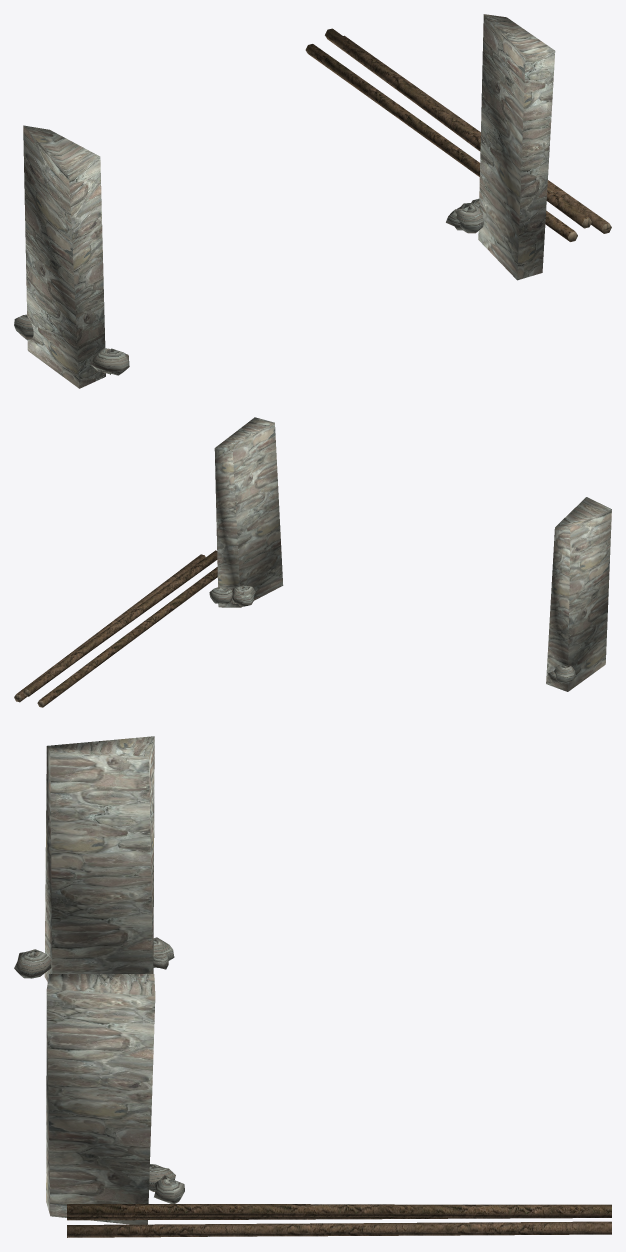
File: kit_sr_slab_gate_p.glb
The picture shows the model from 3 angles, top to bottom: view 1: azimuth 30°, elevation 25°; view 2: azimuth 150°, elevation 25°; view 3: azimuth 270°, elevation 25°; orthographic projection. The views are drawn at different scales.
Visible parts, largest first — view 1: kit_sr_slab_gate_p; view 2: kit_sr_slab_gate_p; view 3: kit_sr_slab_gate_p.
Boxes of the visible parts, box(x1,y1,x2,y2) form: kit_sr_slab_gate_p: box(14, 14, 611, 388); kit_sr_slab_gate_p: box(14, 417, 611, 707); kit_sr_slab_gate_p: box(14, 736, 611, 1237).
Bounding box in the file's own units: 3.96 × 1.57 × 3.51.
1 material, 1 textured.
